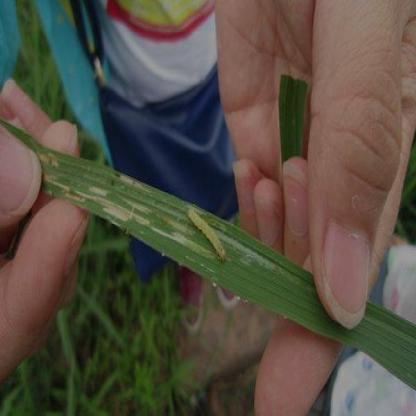leaf-folder: (178, 192, 238, 286)
